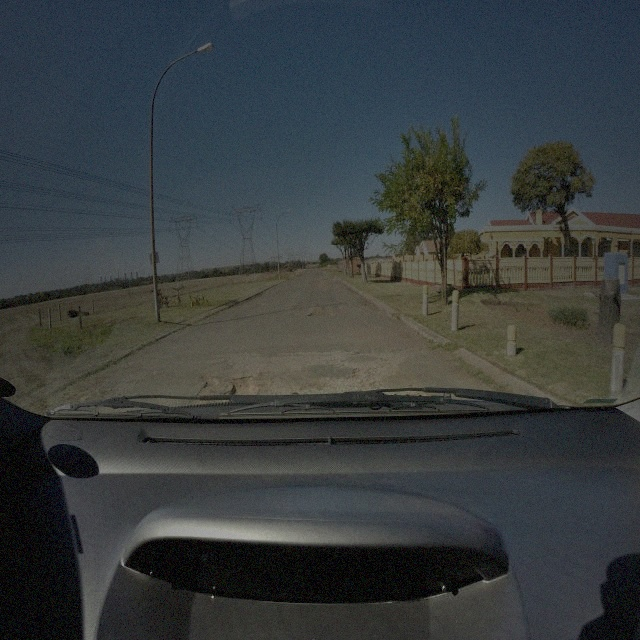pothole: (198, 371, 222, 402), (229, 374, 257, 394), (310, 308, 334, 319), (351, 365, 364, 381), (363, 379, 372, 390)
